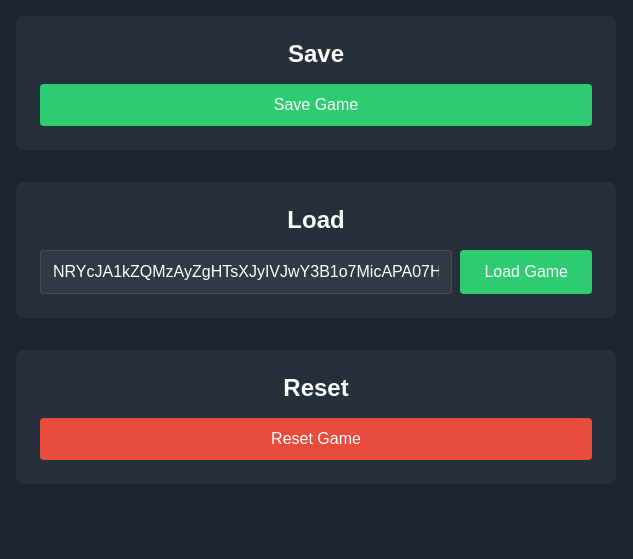
SaveLoadView › Load Game › should show success message when loading valid code
Click the button with class "load-button" at [526, 272], box [460,250,592,294]
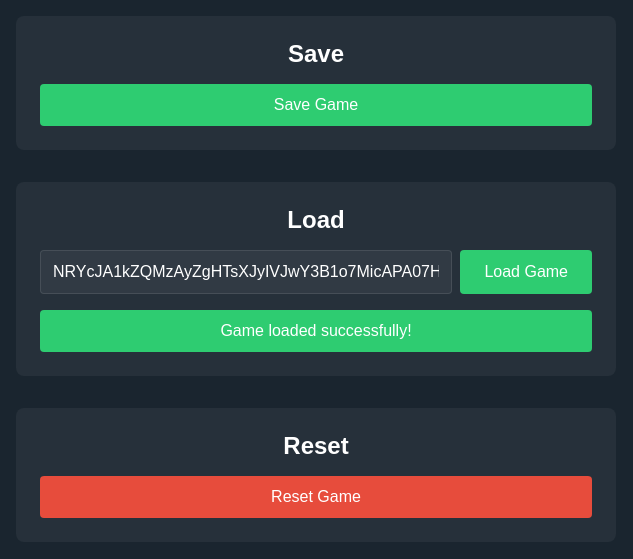
Expected: the text with class "message" reads "Game loaded successfully!", [220,322,412,339]
